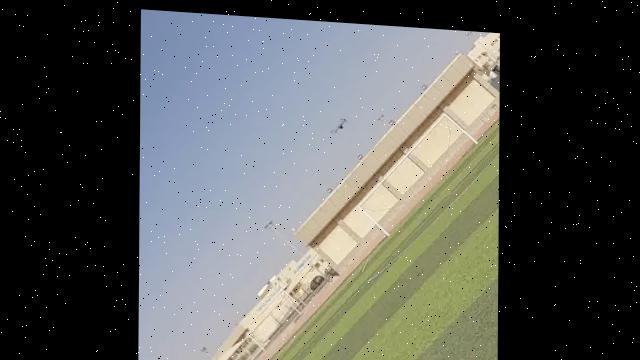drone: (324, 91, 367, 145)
